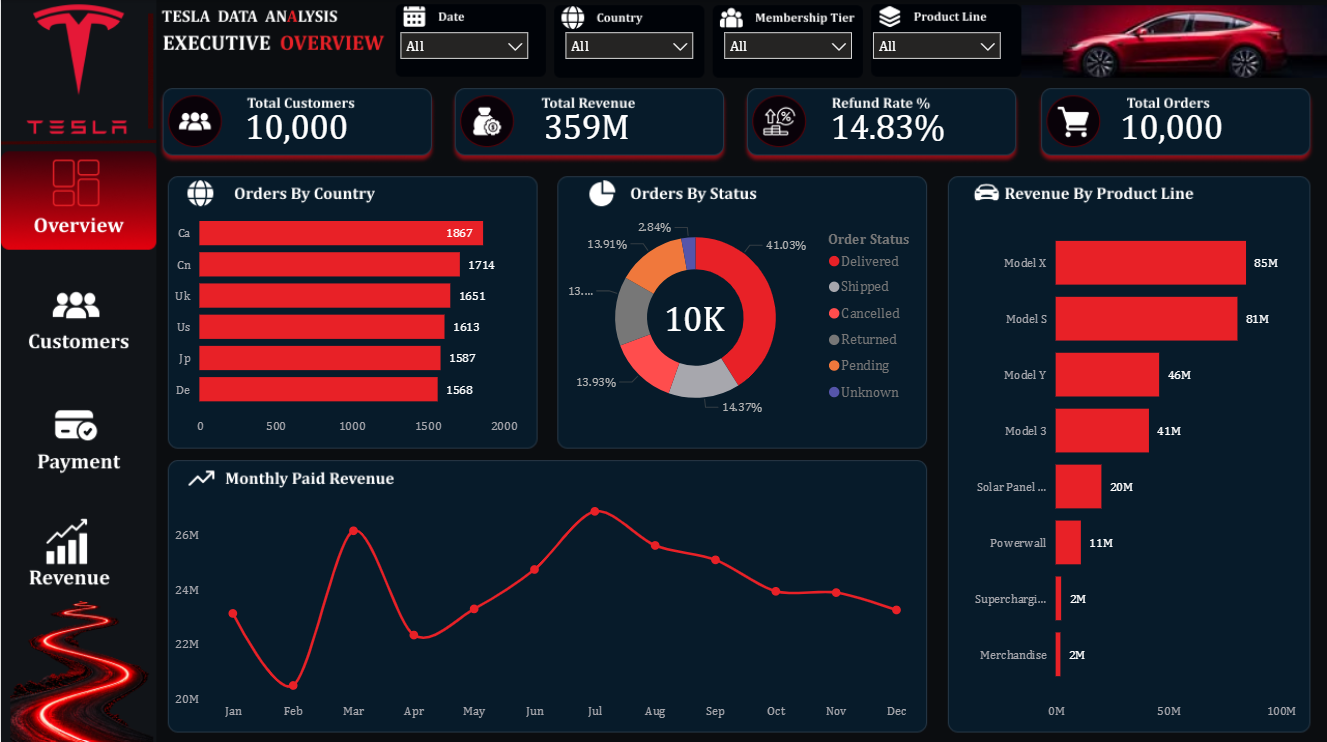

The dashboard page shown, as its layout file describes it:
{"tool":"powerbi","page":{"name":"Overview","canvas":[1280,720],"ordinal":0},"visuals":[{"type":"card","fields":{"Values":["Measure.Total Customers Display"]},"box":[211.1,94.1,148.4,56.7],"z":0},{"type":"card","fields":{"Values":["Measure.TOTAL REVENUE"]},"box":[491,94.1,148.4,56.7],"z":1000},{"type":"card","fields":{"Values":["Measure.REFUND RATE %"]},"box":[781.8,94.1,148.4,56.7],"z":2000},{"type":"card","fields":{"Values":["Measure.Total Order"]},"box":[1055.6,94.1,148.4,56.7],"z":3000},{"type":"slicer","fields":{"Values":["public orders.year"]},"box":[375.2,21.7,143.6,41],"z":4000},{"type":"slicer","fields":{"Values":["public customers.country"]},"box":[534.5,21.7,143.6,41],"z":5000},{"type":"slicer","fields":{"Values":["public customers.membership_tier"]},"box":[687.7,21.7,143.6,41],"z":6000},{"type":"slicer","fields":{"Values":["public orders.product_category"]},"box":[831.2,21.7,143.6,41],"z":7000},{"type":"clusteredBarChart","title":"Orders By Country","fields":{"Category":["public customers.country"],"Y":["Measure.TOTAL ORDERS"]},"box":[161.7,189.4,357.1,238.9],"z":8000},{"type":"donutChart","title":"Orders By Status","fields":{"Category":["public orders.order_status"],"Y":["CountNonNull(public orders.order_id)"]},"box":[538.1,187,354.7,241.3],"z":9000},{"type":"card","fields":{"Values":["Measure.TOTAL ORDERS"]},"box":[594.8,279.9,148.4,56.7],"z":10000},{"type":"clusteredBarChart","title":"Revenue By Product Line","fields":{"Category":["public orders.product_category"],"Y":["Measure.PAID REVENUE"]},"box":[918.1,199.1,346.2,504.3],"z":11000},{"type":"lineChart","title":"Monthly Paid Revenue","fields":{"Y":["Measure.PAID REVENUE"],"Category":["public revenue.payment_date Hierarchy.Year","public revenue.payment_date Hierarchy.Month Name"]},"box":[161.7,476.5,731.1,226.8],"z":12000},{"type":"actionButton","box":[0,150.8,150,93],"z":13000},{"type":"actionButton","box":[0,259.4,149.6,95.3],"z":14000},{"type":"actionButton","box":[0,380,149.6,95.3],"z":15000},{"type":"actionButton","box":[0,486.2,149.6,95.3],"z":15001}]}

Visuals, with their boxes in screenshot pixels (x1, y1, x2, y2), scaled from the page's 1280x720 canvas onto the 1327x742 screenshot:
card - Measure.Total Customers Display: [219,97,373,155]
card - Measure.TOTAL REVENUE: [509,97,663,155]
card - Measure.REFUND RATE %: [811,97,964,155]
card - Measure.Total Order: [1094,97,1248,155]
slicer - public orders.year: [389,22,538,65]
slicer - public customers.country: [554,22,703,65]
slicer - public customers.membership_tier: [713,22,862,65]
slicer - public orders.product_category: [862,22,1011,65]
"Orders By Country" clusteredBarChart: [168,195,538,441]
"Orders By Status" donutChart: [558,193,926,441]
card - Measure.TOTAL ORDERS: [617,288,770,347]
"Revenue By Product Line" clusteredBarChart: [952,205,1311,725]
"Monthly Paid Revenue" lineChart: [168,491,926,725]
actionButton: [0,155,156,251]
actionButton: [0,267,155,366]
actionButton: [0,392,155,490]
actionButton: [0,501,155,599]
